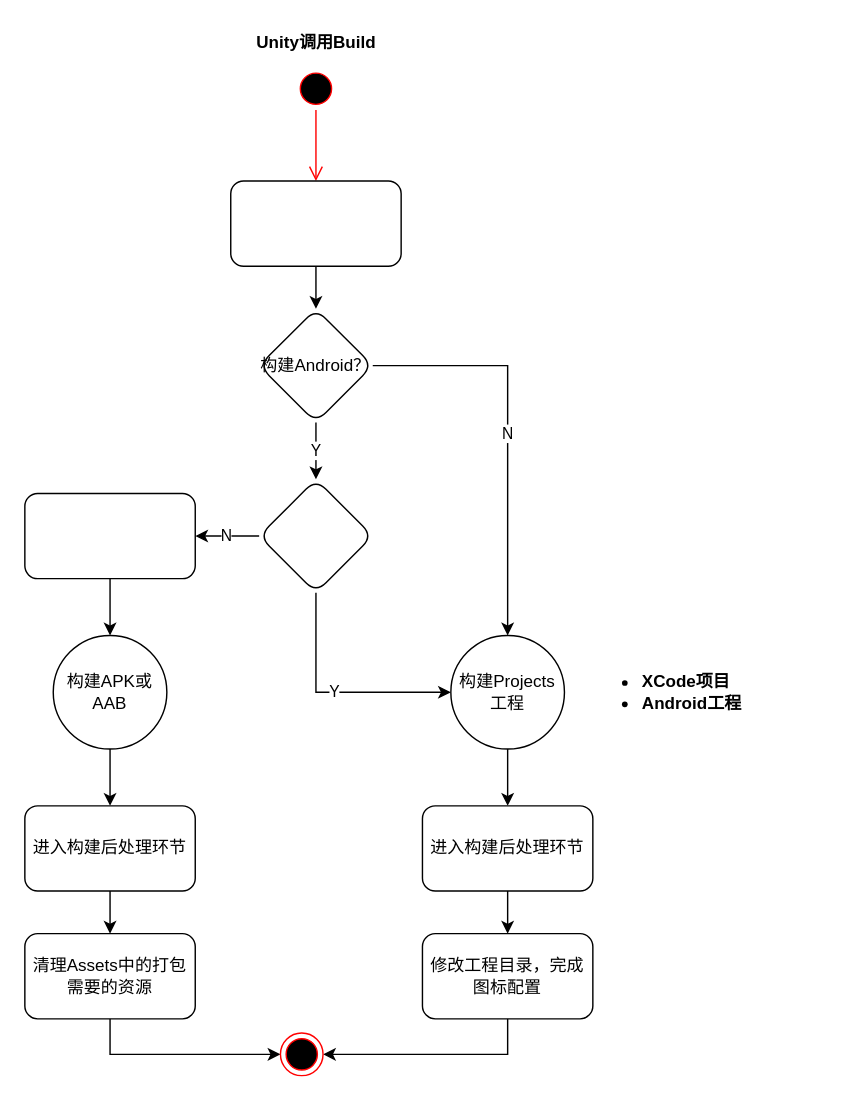
The diagram is 845 pixels wide and 1101 high, and some of its shapes have lost their labels. Each missing label, with the centre of its shape:
"Export Projects？" goes at (315,535).
"准备Assets中的打包需要的资源" goes at (109,535).
"进入构建前处理环节" goes at (315,223).
